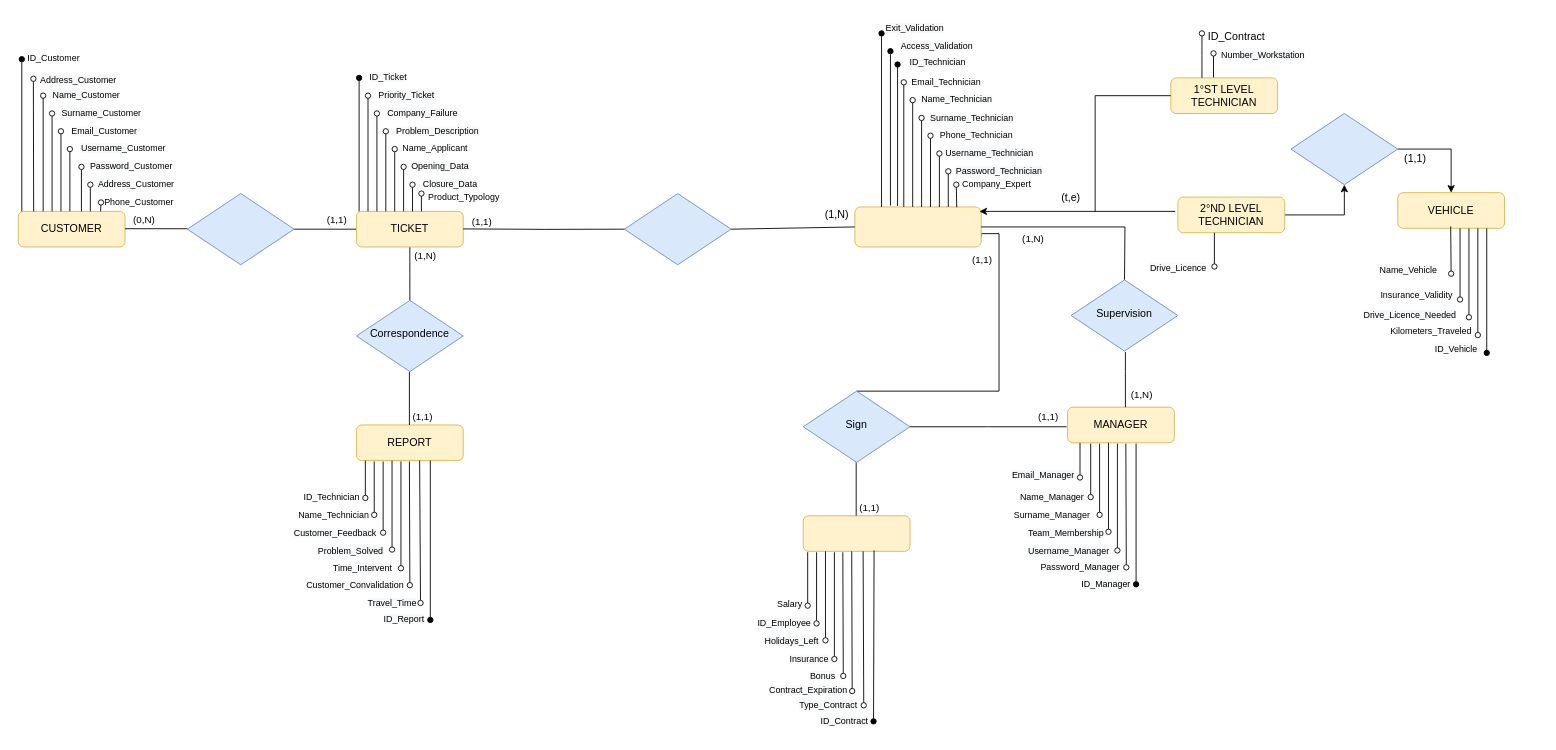
Some shapes in this 1556 by 750 pixel diagram are drawn without their labels. The box of each missing label's shape, as (x1, y1, x2, y2) in pixels:
CONTRACT: (802, 515, 910, 551)
Drive: (1290, 113, 1398, 185)
Management: (623, 193, 731, 265)
Submission: (186, 193, 294, 265)
Tecnician: (854, 206, 981, 247)
